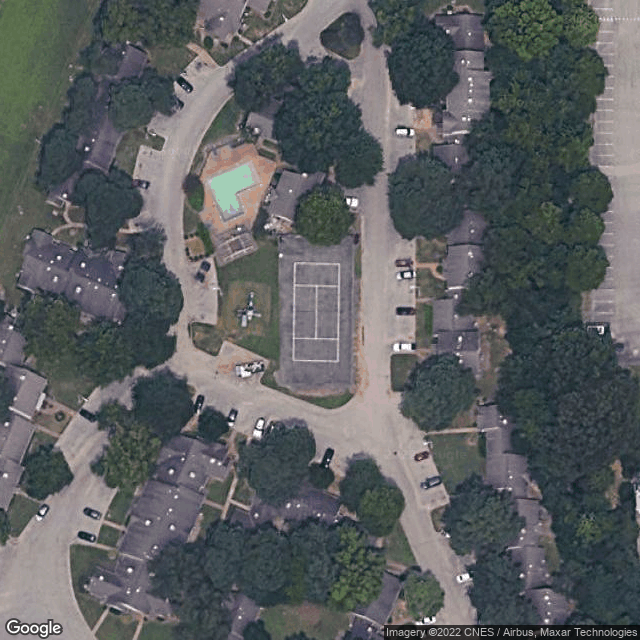Court: (291, 260, 341, 363)
